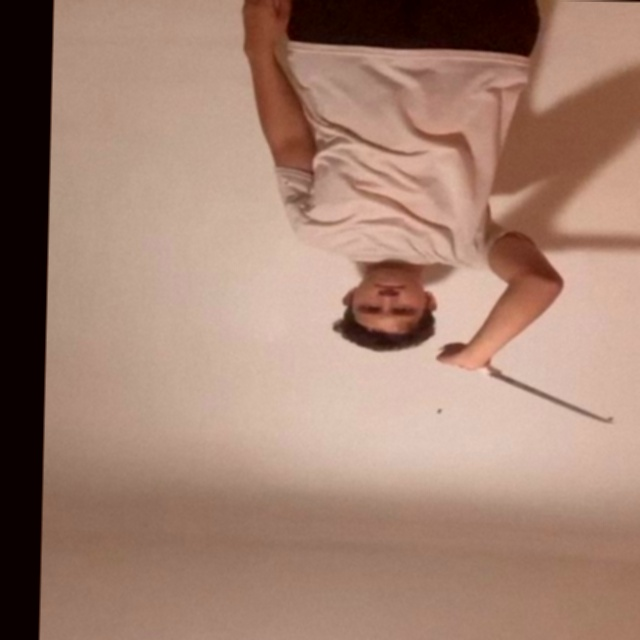Sharp-Object: (493, 376, 608, 422)
